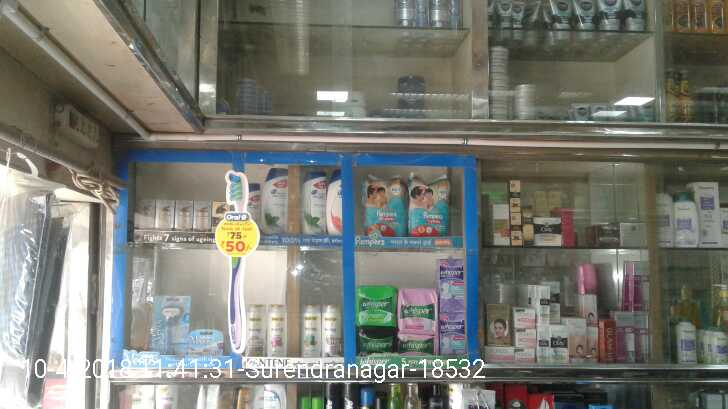venus: (149, 295, 191, 353), (192, 328, 224, 353)
